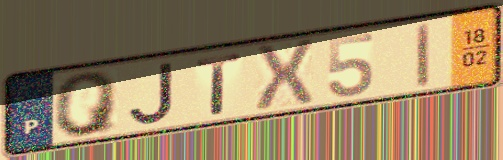5: (325, 30, 375, 99)
I: (414, 19, 434, 90)
J: (127, 59, 178, 126)
Q: (51, 68, 122, 139)
T: (193, 50, 245, 118)
X: (252, 36, 317, 115)
